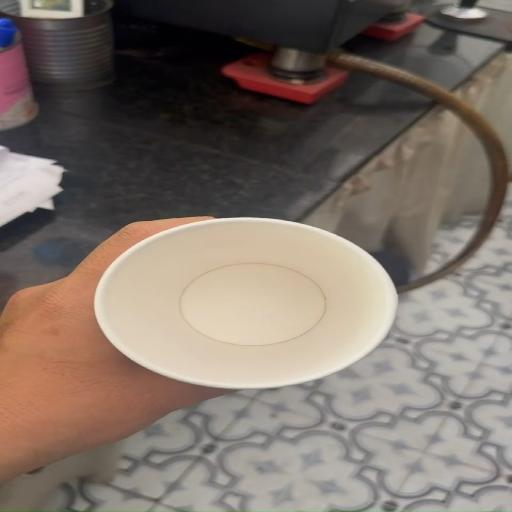Ly_giay: (94, 218, 397, 388)
